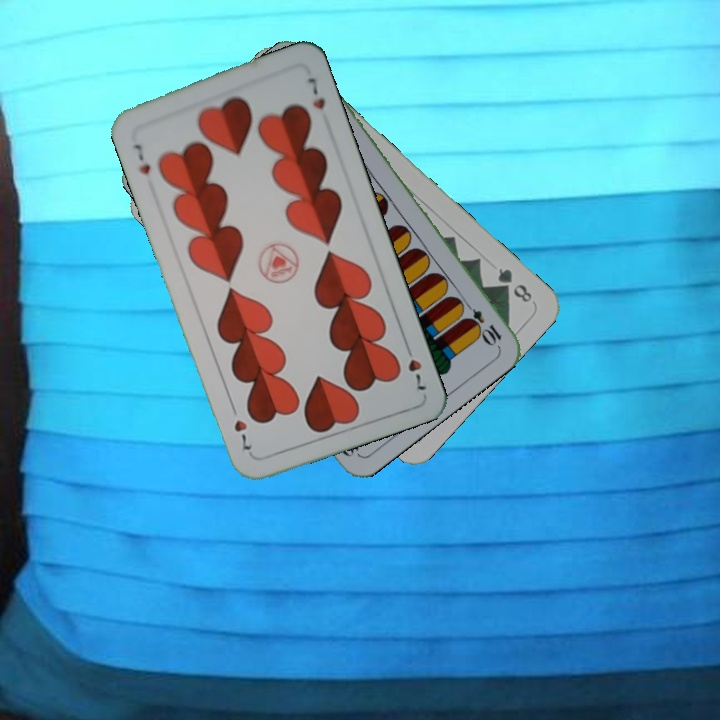E10: (458, 296, 505, 348)
G8: (493, 263, 535, 306)
H7: (400, 338, 429, 396), (130, 140, 153, 177)
